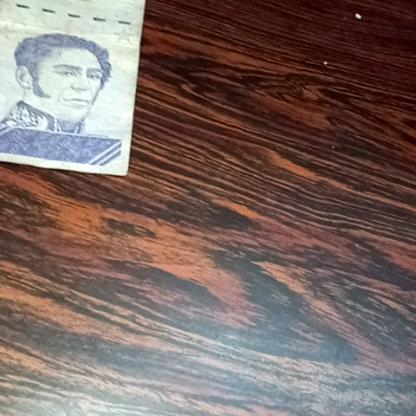ten-front-vef: (0, 1, 154, 175)
